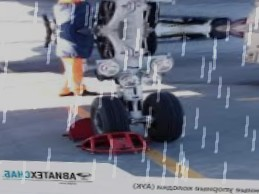chock: (73, 127, 152, 159), (61, 116, 98, 144)
wheel: (139, 89, 189, 144), (86, 93, 133, 137)
